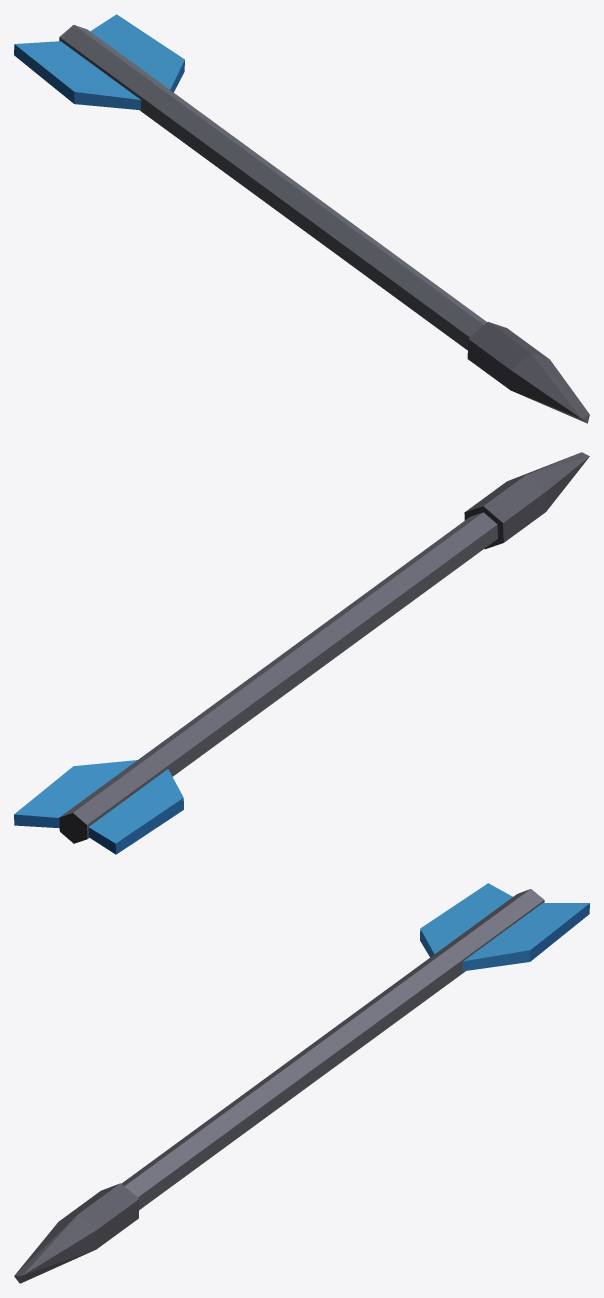
File: CrossbowTowerArrow.fbx
3 views of the same model, one above another, from view 1: azimuth 30°, elevation 25°; view 2: azimuth 150°, elevation 25°; view 3: azimuth 330°, elevation 25° (orthographic).
Parts seen in each view (by area): view 1: CrossbowTowerArrow; view 2: CrossbowTowerArrow; view 3: CrossbowTowerArrow.
Boxes of the visible parts, x1,y1,x2,y2 form: CrossbowTowerArrow: (14,14,589,423); CrossbowTowerArrow: (14,452,589,854); CrossbowTowerArrow: (14,883,589,1283).
Size of the model in its own units: 6.92 by 2.58 by 56.38.
